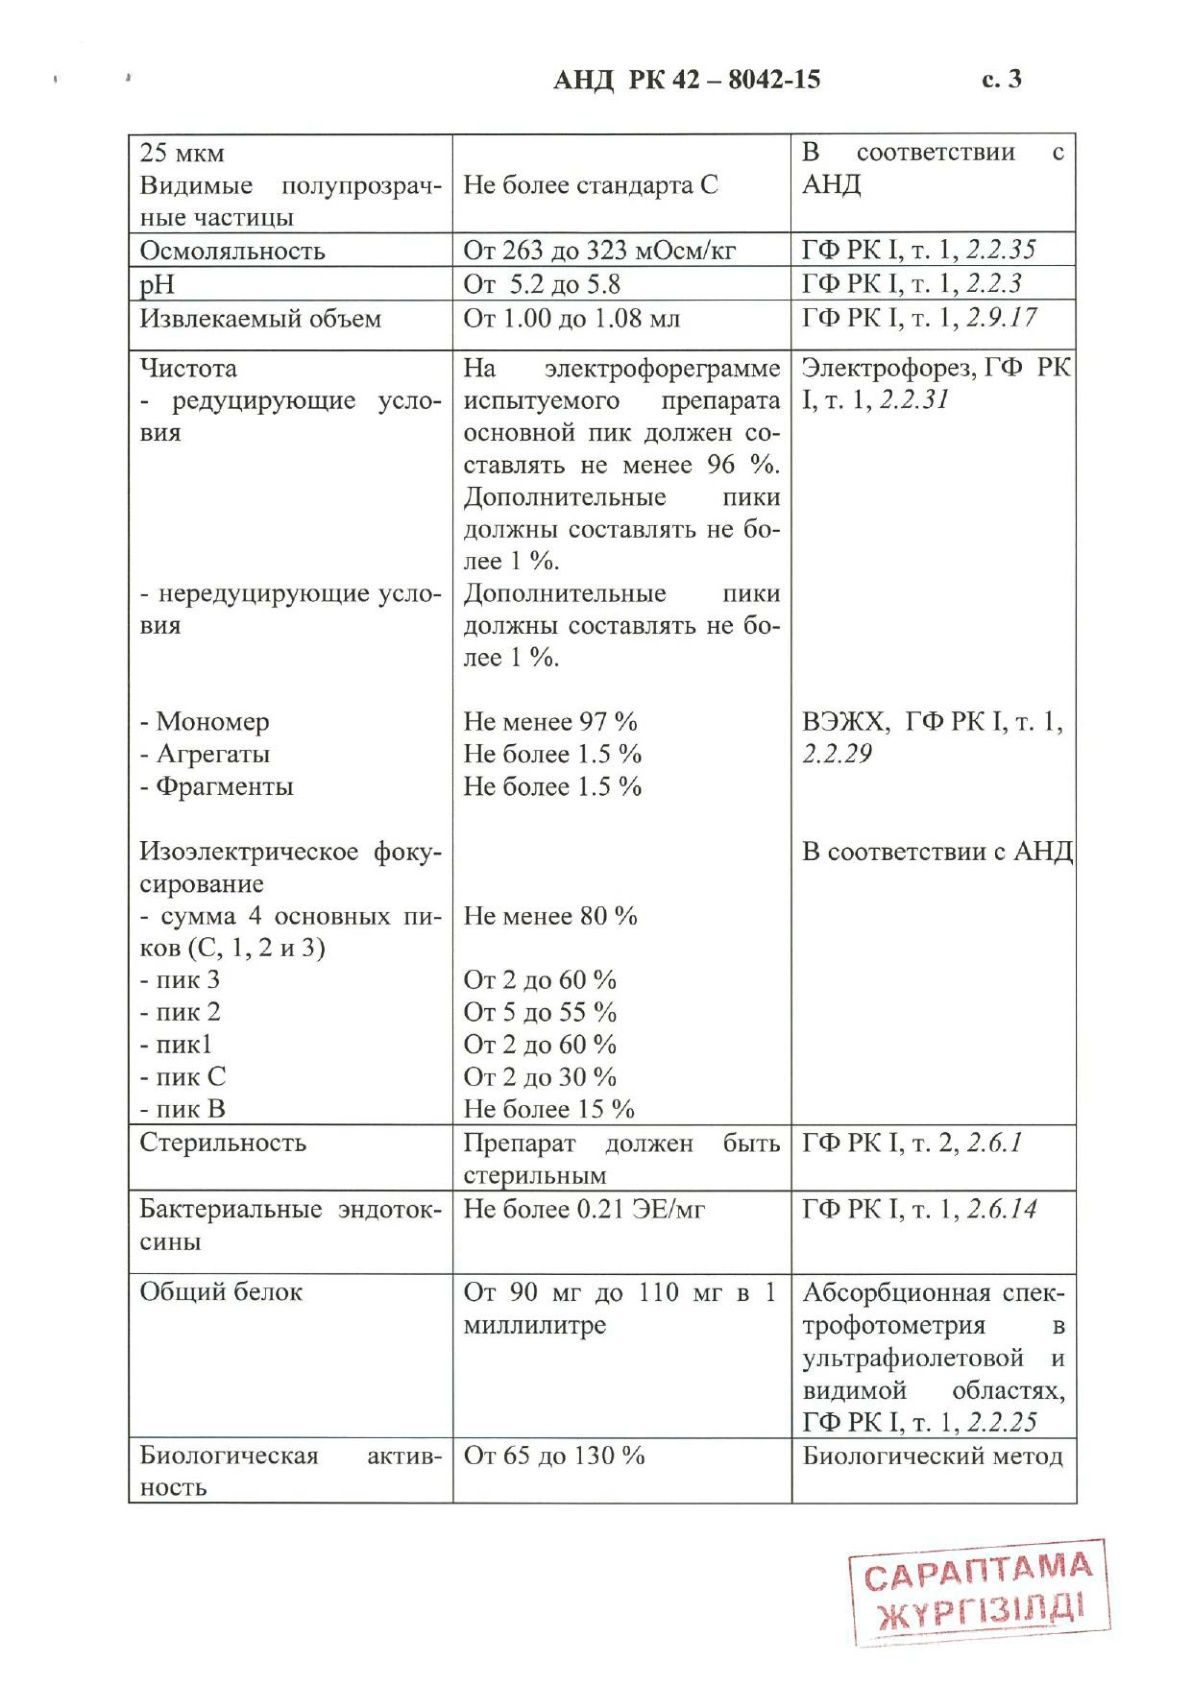full_lined: (126, 132, 1078, 1504)
